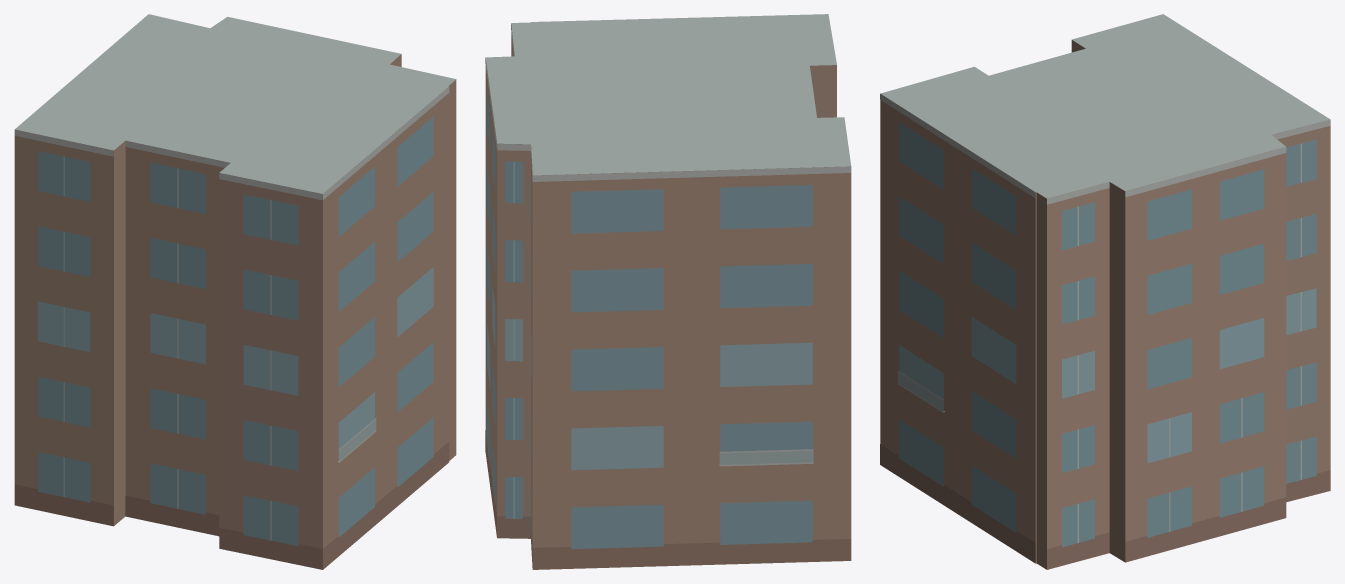
File: survey-upis-32846201.glb
3 renders of one model, left to right at view 1: azimuth 30°, elevation 25°; view 2: azimuth 150°, elevation 25°; view 3: azimuth 270°, elevation 25°, orthographic. The views are drawn at different scales.
Parts seen in each view (by area): view 1: survey-upis-32846201.tmp; view 2: survey-upis-32846201.tmp; view 3: survey-upis-32846201.tmp.
Part boxes in pixels (x1,y1,x2,y2): survey-upis-32846201.tmp: (14,14,456,569); survey-upis-32846201.tmp: (485,14,851,569); survey-upis-32846201.tmp: (880,14,1330,569).
Size of the model in its own units: 15.58 by 14.6 by 16.06.
